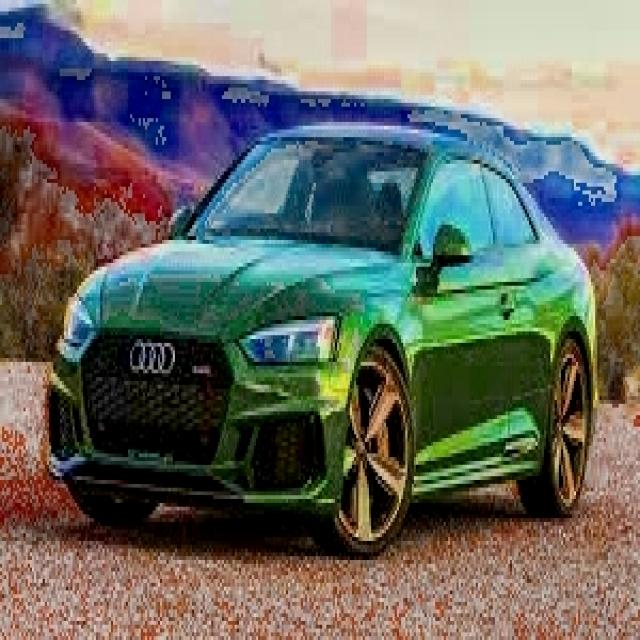green: (47, 128, 599, 554)
